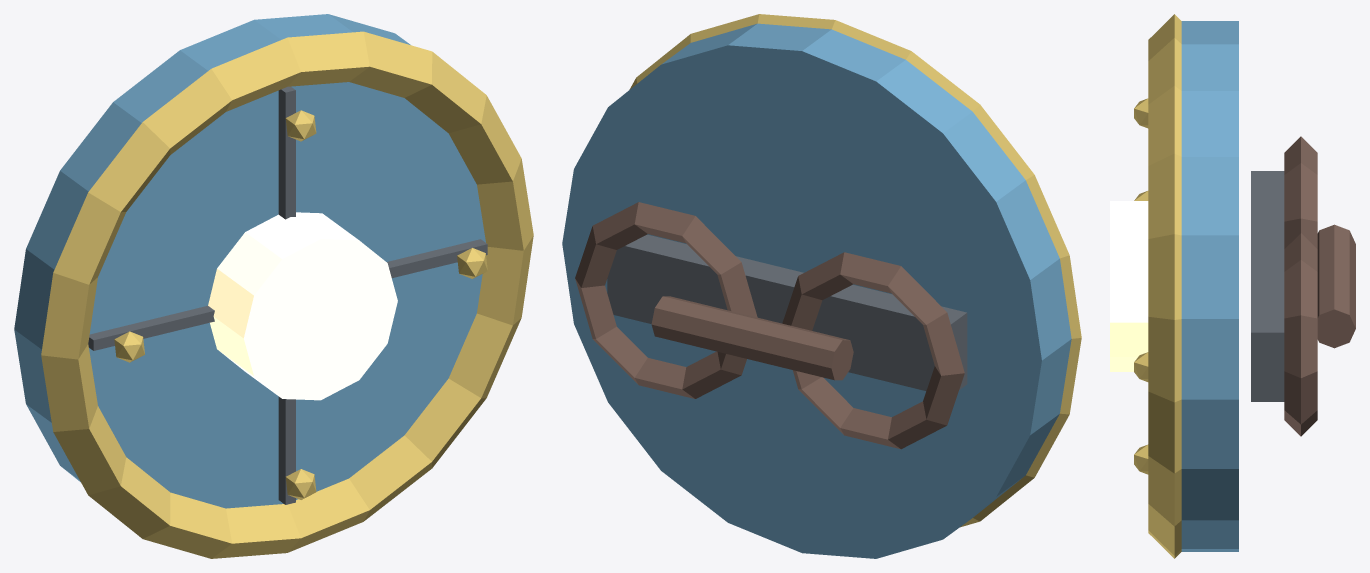
The model's file is colored_round_shield.glb.
The picture shows the model from 3 angles, left to right: view 1: azimuth 30°, elevation 25°; view 2: azimuth 150°, elevation 25°; view 3: azimuth 270°, elevation 25°; orthographic projection. The views are drawn at different scales.
Parts seen in each view (by area): view 1: ShieldBody.005, IronRim.004, CentralBoss.005, PlankSeam_0.004, PlankSeam_1.004, Rivet_3.008, Rivet_0.030, Rivet_2.008, Rivet_1.030; view 2: ShieldBody.005, BackReinforcement.005, BackStrap_-0.005, BackStrap_0.005, HandGrip.005, IronRim.004; view 3: ShieldBody.005, IronRim.004, BackReinforcement.005, CentralBoss.005, BackStrap_0.005, HandGrip.005, BackStrap_-0.005, Rivet_1.030, Rivet_2.008, Rivet_3.008.
Boxes of the visible parts, left/top/right/bottom form: ShieldBody.005: left=14, top=14, right=485, bottom=508; IronRim.004: left=41, top=31, right=533, bottom=558; CentralBoss.005: left=208, top=212, right=397, bottom=400; PlankSeam_0.004: left=278, top=86, right=295, bottom=504; PlankSeam_1.004: left=88, top=239, right=487, bottom=350; Rivet_3.008: left=285, top=110, right=316, bottom=141; Rivet_0.030: left=114, top=331, right=144, bottom=362; Rivet_2.008: left=285, top=469, right=316, bottom=499; Rivet_1.030: left=457, top=248, right=487, bottom=278; ShieldBody.005: left=562, top=23, right=1071, bottom=558; BackReinforcement.005: left=607, top=234, right=967, bottom=390; BackStrap_-0.005: left=782, top=252, right=964, bottom=449; BackStrap_0.005: left=575, top=202, right=757, bottom=398; HandGrip.005: left=651, top=296, right=853, bottom=380; IronRim.004: left=629, top=14, right=1081, bottom=527; ShieldBody.005: left=1181, top=21, right=1238, bottom=551; IronRim.004: left=1148, top=14, right=1181, bottom=558; BackReinforcement.005: left=1251, top=171, right=1284, bottom=401; CentralBoss.005: left=1110, top=201, right=1148, bottom=371; BackStrap_0.005: left=1284, top=233, right=1317, bottom=436; HandGrip.005: left=1317, top=224, right=1355, bottom=348; BackStrap_-0.005: left=1284, top=136, right=1317, bottom=248; Rivet_1.030: left=1134, top=352, right=1148, bottom=381; Rivet_2.008: left=1134, top=444, right=1148, bottom=474; Rivet_3.008: left=1134, top=98, right=1148, bottom=128.
Size of the model in its own units: 1.15 by 1.15 by 0.515.
